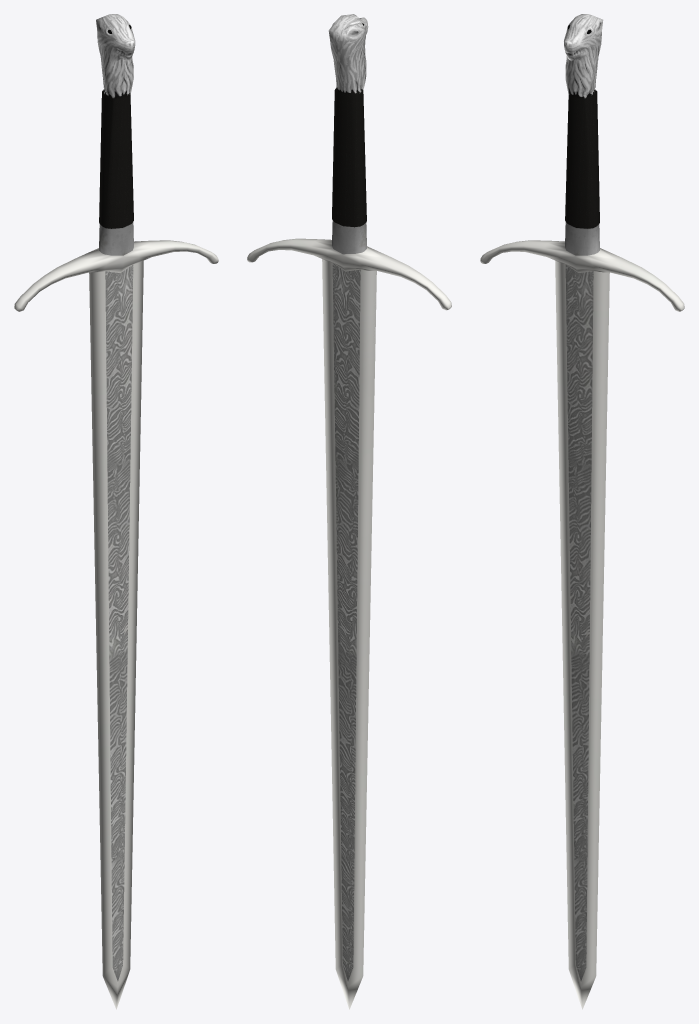
The model's file is staff-transformed.glb.
The picture shows the model from 3 angles, left to right: view 1: azimuth 30°, elevation 25°; view 2: azimuth 150°, elevation 25°; view 3: azimuth 330°, elevation 25°; orthographic projection.
Visible parts, largest first — view 1: defaultobject; view 2: defaultobject; view 3: defaultobject.
Part boxes in pixels (x1,y1,x2,y2): defaultobject: (14,14,218,1009); defaultobject: (247,14,451,1009); defaultobject: (480,14,684,1009).
Bounding box in the file's own units: 0.427 × 2 × 0.1027.
Materials: 1 (1 with a texture image).
